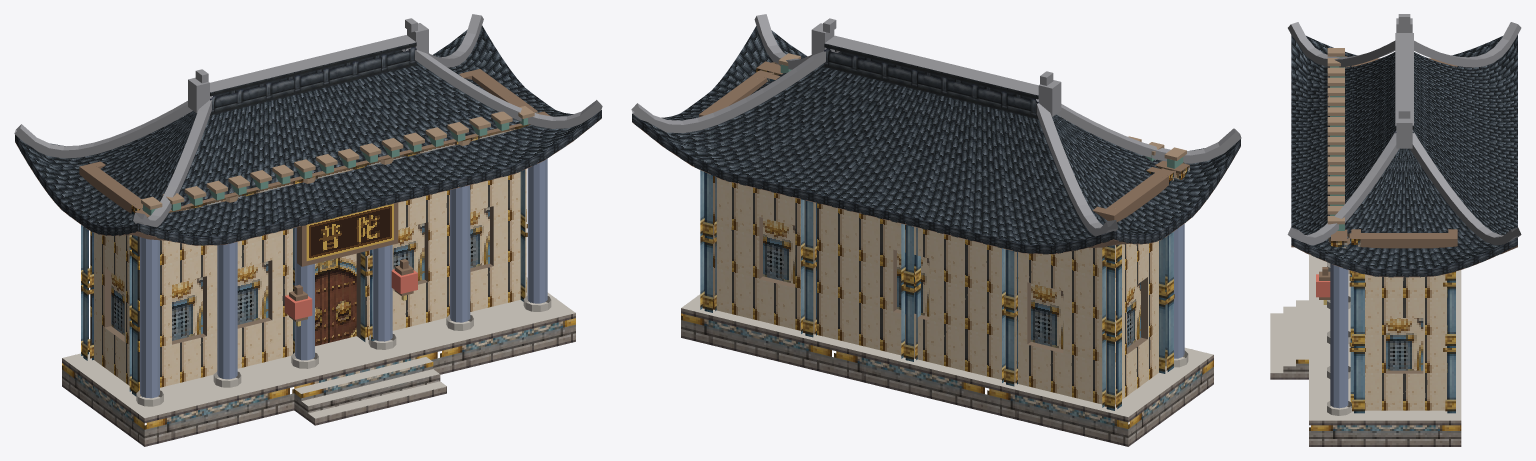
File: g_pota_shop_green.glb
The picture shows the model from 3 angles, left to right: view 1: azimuth 30°, elevation 25°; view 2: azimuth 150°, elevation 25°; view 3: azimuth 270°, elevation 25°; orthographic projection. The views are drawn at different scales.
Parts seen in each view (by area): view 1: roof, plaster, stone, stonetop, col, ridgeend, win, eave, ridge, post, wood, woodl (+7 smaller); view 2: roof, plaster, stone, post, ridgeend, eave, win, ridge, stonetop, wood, reveal, col (+1 smaller); view 3: roof, plaster, ridgeend, stonetop, stone, post, woodl, col, wood, win, eave, dougong (+1 smaller).
Part boxes in pixels (left/top/right/bottom): roof: left=16, top=25, right=601, bottom=237; plaster: left=90, top=169, right=526, bottom=391; stone: left=62, top=313, right=575, bottom=446; stonetop: left=62, top=277, right=575, bottom=418; col: left=140, top=158, right=547, bottom=398; ridgeend: left=14, top=14, right=602, bottom=227; win: left=111, top=207, right=489, bottom=340; eave: left=15, top=110, right=601, bottom=245; ridge: left=210, top=42, right=416, bottom=115; post: left=81, top=112, right=537, bottom=397; wood: left=79, top=69, right=549, bottom=321; woodl: left=140, top=106, right=537, bottom=216; roof: left=633, top=26, right=1239, bottom=245; plaster: left=713, top=176, right=1158, bottom=404; stone: left=681, top=308, right=1213, bottom=446; post: left=700, top=170, right=1174, bottom=410; ridgeend: left=631, top=14, right=1241, bottom=236; eave: left=632, top=113, right=1240, bottom=254; win: left=763, top=218, right=1140, bottom=349; ridge: left=824, top=43, right=1038, bottom=118; stonetop: left=681, top=294, right=1213, bottom=417; wood: left=699, top=61, right=1189, bottom=221; reveal: left=759, top=217, right=1147, bottom=354; col: left=1174, top=224, right=1184, bottom=358; roof: left=1291, top=35, right=1517, bottom=269; plaster: left=1365, top=274, right=1447, bottom=410; ridgeend: left=1287, top=14, right=1521, bottom=245; stonetop: left=1270, top=254, right=1461, bottom=420; stone: left=1270, top=359, right=1461, bottom=446; post: left=1349, top=270, right=1455, bottom=413; woodl: left=1327, top=48, right=1349, bottom=244; col: left=1330, top=263, right=1348, bottom=408; wood: left=1319, top=56, right=1457, bottom=299; win: left=1386, top=318, right=1423, bottom=370; eave: left=1291, top=237, right=1517, bottom=277; dougong: left=1330, top=56, right=1344, bottom=230.
Bounding box in the file's own units: 85.79 × 54.12 × 43.02.
20 materials, 10 textured.
